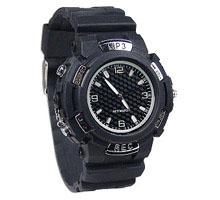watch: (63, 37, 174, 157)
